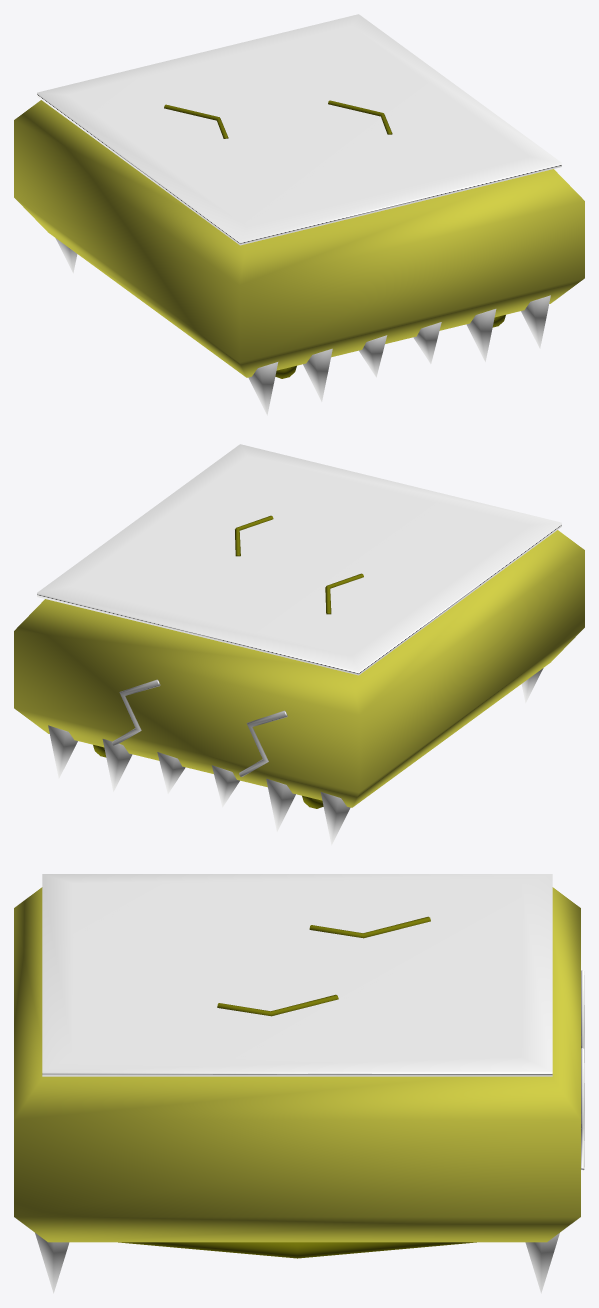
File: MovingIcePlatform.glb
3 views of the same model, one above another, from view 1: azimuth 30°, elevation 25°; view 2: azimuth 150°, elevation 25°; view 3: azimuth 270°, elevation 25° (orthographic). The views are drawn at different scales.
Parts seen in each view (by area): view 1: Body, Frost, HangingIce, Cracks; view 2: Body, Frost, HangingIce, Cracks; view 3: Body, Frost, Runner, Cracks, HangingIce.
Part boxes in pixels (left/top/right/bottom): Body: left=14, top=100, right=584, bottom=377; Frost: left=37, top=14, right=561, bottom=245; HangingIce: left=55, top=238, right=550, bottom=415; Cracks: left=164, top=100, right=392, bottom=138; Body: left=14, top=530, right=584, bottom=807; Frost: left=37, top=444, right=561, bottom=675; HangingIce: left=48, top=668, right=543, bottom=845; Cracks: left=112, top=515, right=363, bottom=776; Body: left=14, top=887, right=580, bottom=1242; Frost: left=42, top=874, right=552, bottom=1076; Runner: left=118, top=1242, right=476, bottom=1258; Cracks: left=217, top=916, right=584, bottom=1170; HangingIce: left=35, top=1233, right=559, bottom=1293.
Bounding box in the file's own units: 1.06 × 0.5591 × 1.21.
1 material, 1 textured.
